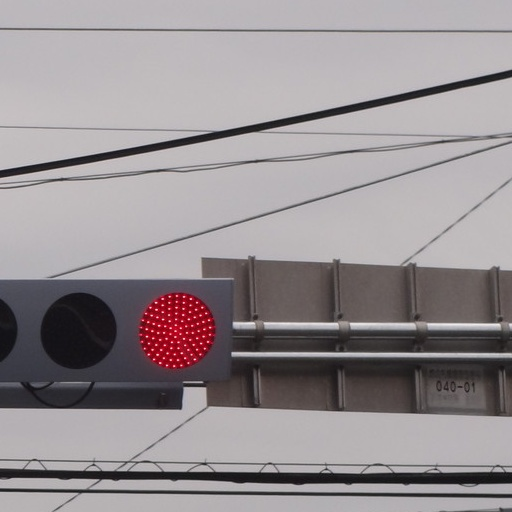Traffic_Signal_Red: (6, 284, 228, 374)
